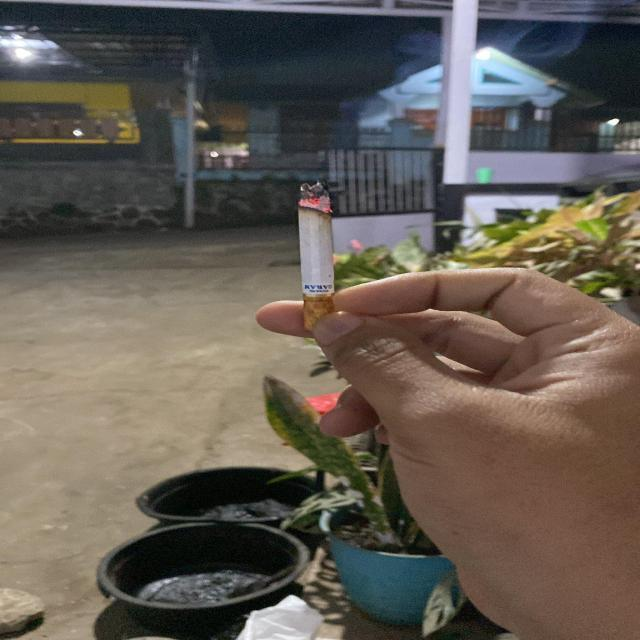rokok: (294, 178, 340, 326)
